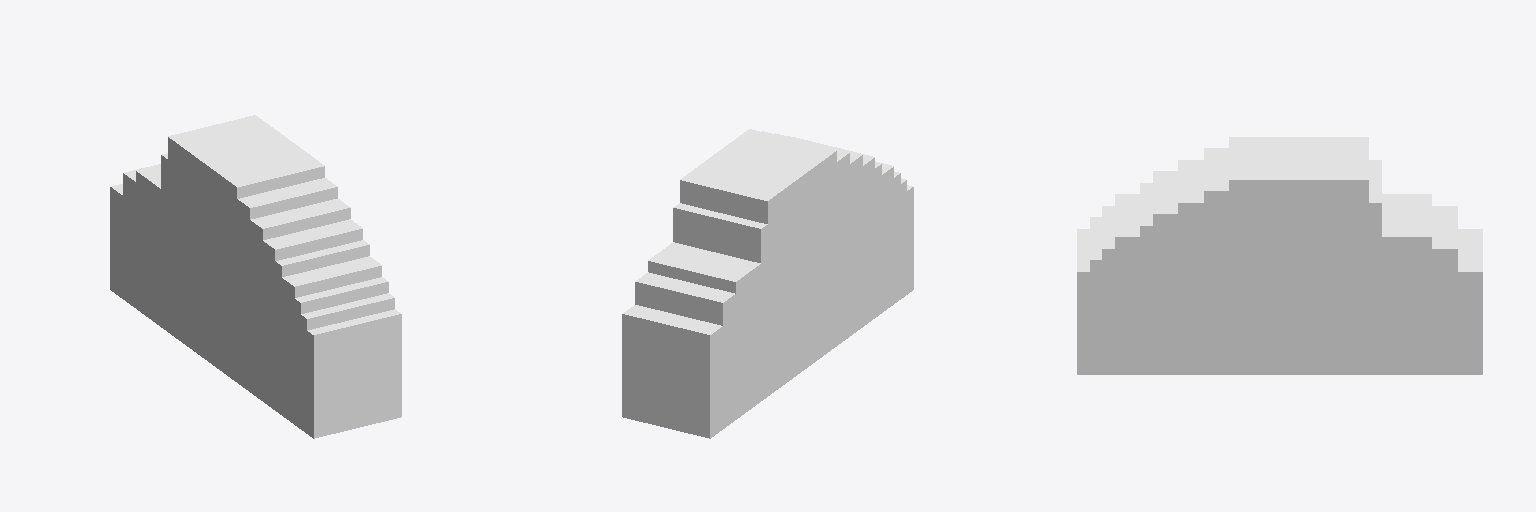
File: Boss-5.obj
3 renders of one model, left to right at view 1: azimuth 30°, elevation 25°; view 2: azimuth 150°, elevation 25°; view 3: azimuth 270°, elevation 25°, orthographic.
Visible parts, largest first — view 1: Boss-5; view 2: Boss-5; view 3: Boss-5.
Part boxes in pixels (x1,y1,x2,y2): Boss-5: (110, 115, 401, 438); Boss-5: (622, 129, 913, 438); Boss-5: (1077, 137, 1482, 374).
Size of the model in its own units: 8 by 17 by 32.